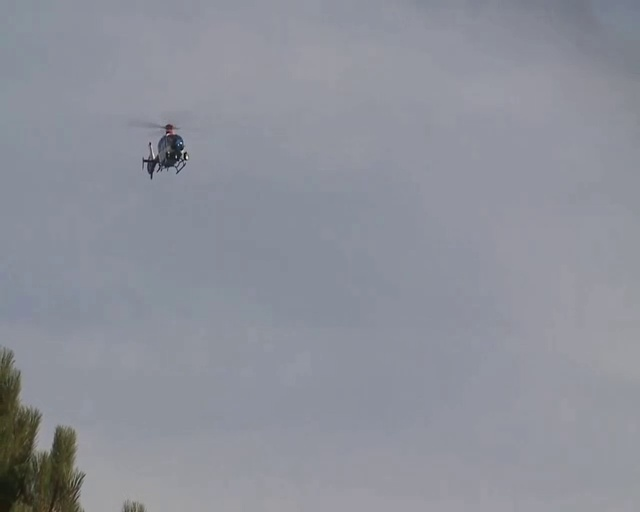HELICOPTER: (130, 121, 196, 179)
